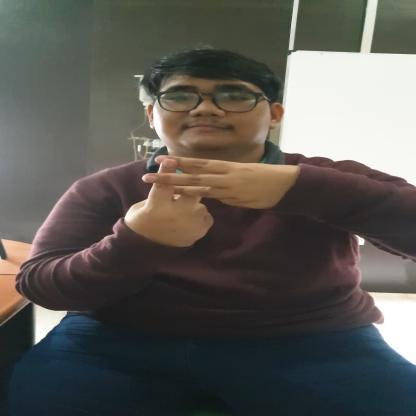B: (122, 152, 278, 254)
